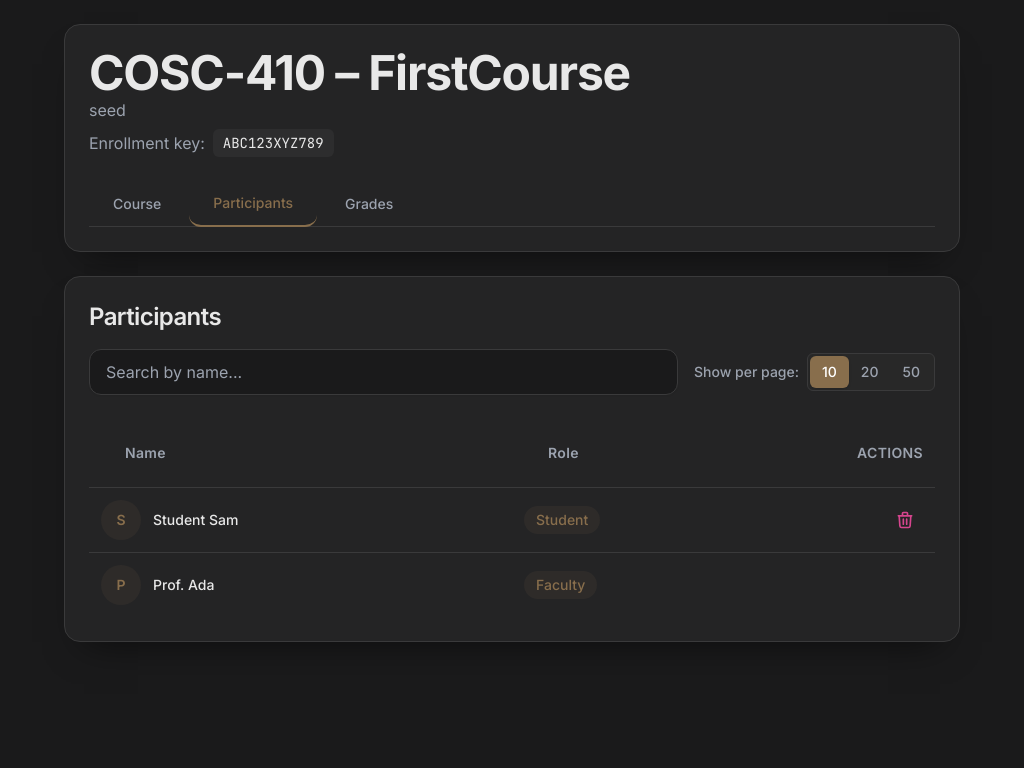
Test case: CoursePage › delete student cancellation
The width and height of the screenshot is (1024, 768).
Expected: the heading "COSC-410 – FirstCourse" is shown, [89, 43, 630, 102]
Click the tab "participants": x=253, y=204 [189, 181, 317, 227]
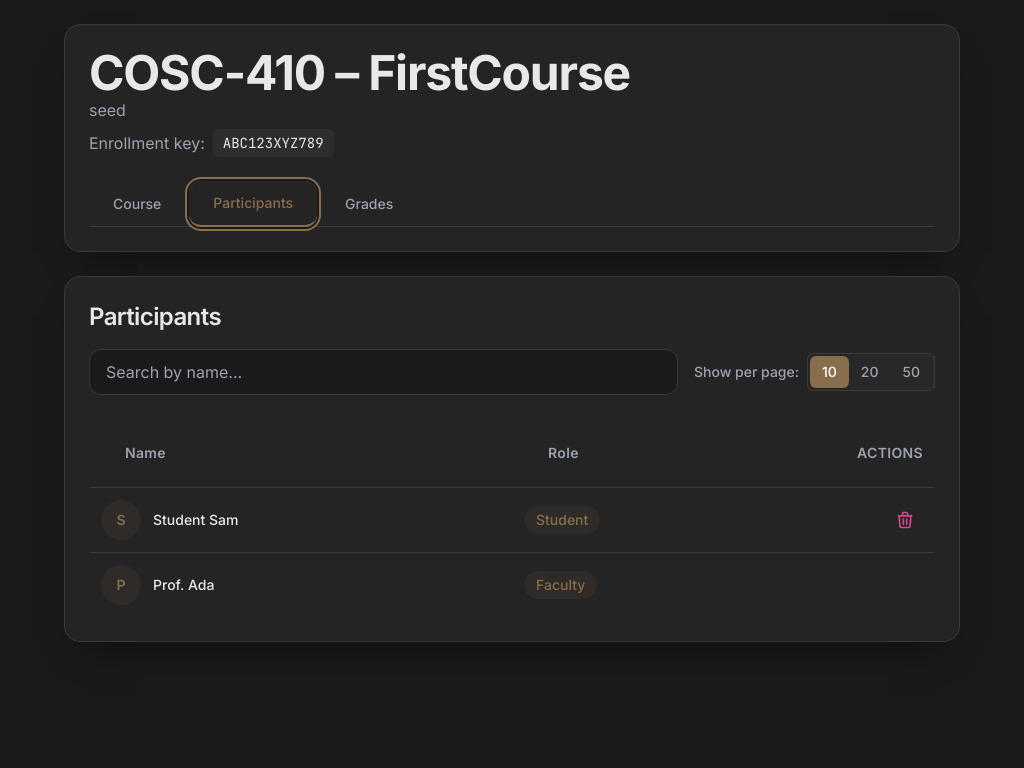
Expected: the text "Student Sam" is shown, [153, 510, 238, 530]
Click the button named "Delete Student Sam": x=905, y=520 [887, 502, 923, 538]
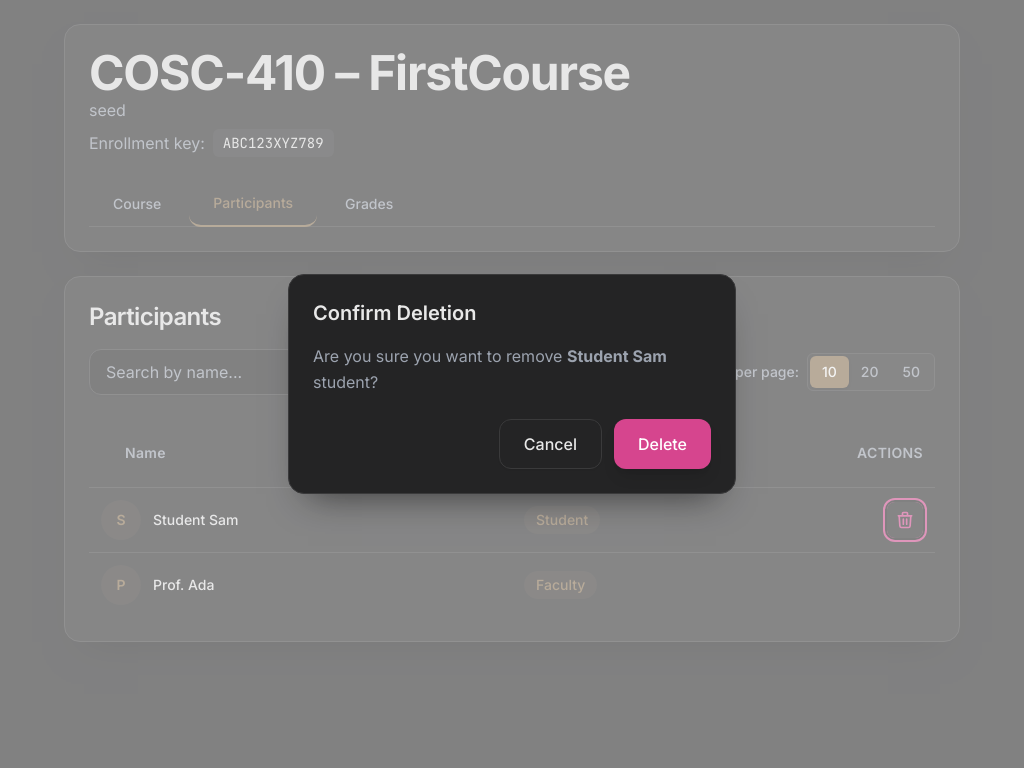
Expected: the heading "Confirm Deletion" is shown, [313, 301, 476, 325]
Click the button "Cancel": x=550, y=444 [499, 419, 602, 469]
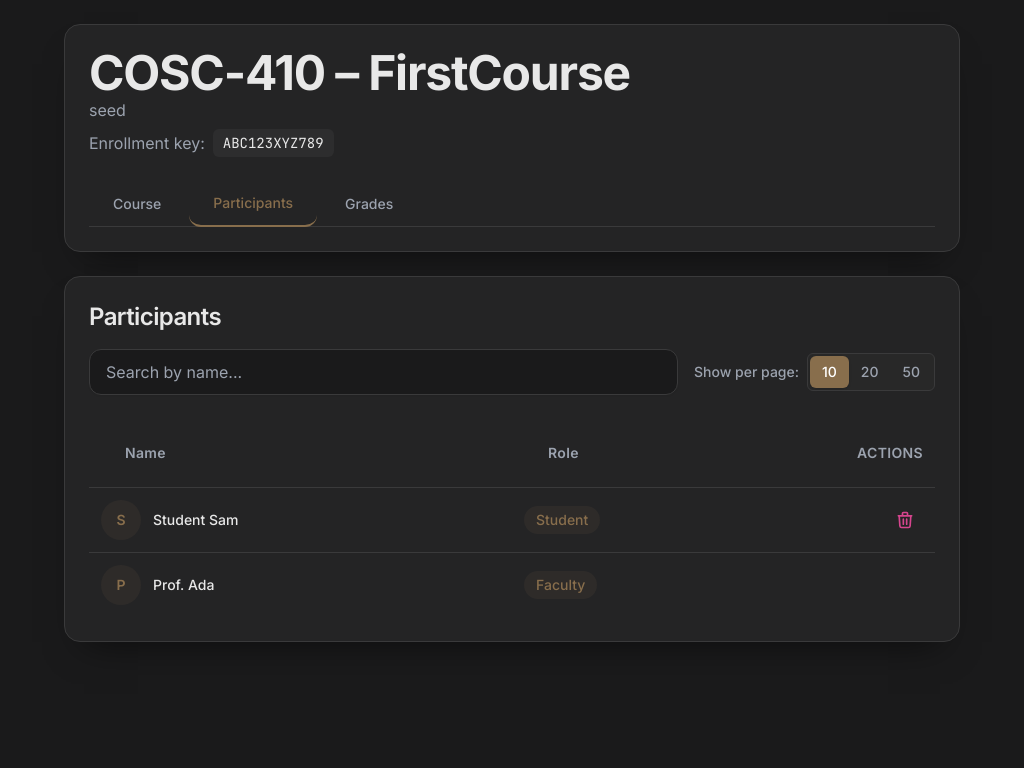
Expected: the heading "Confirm Deletion" is gone
